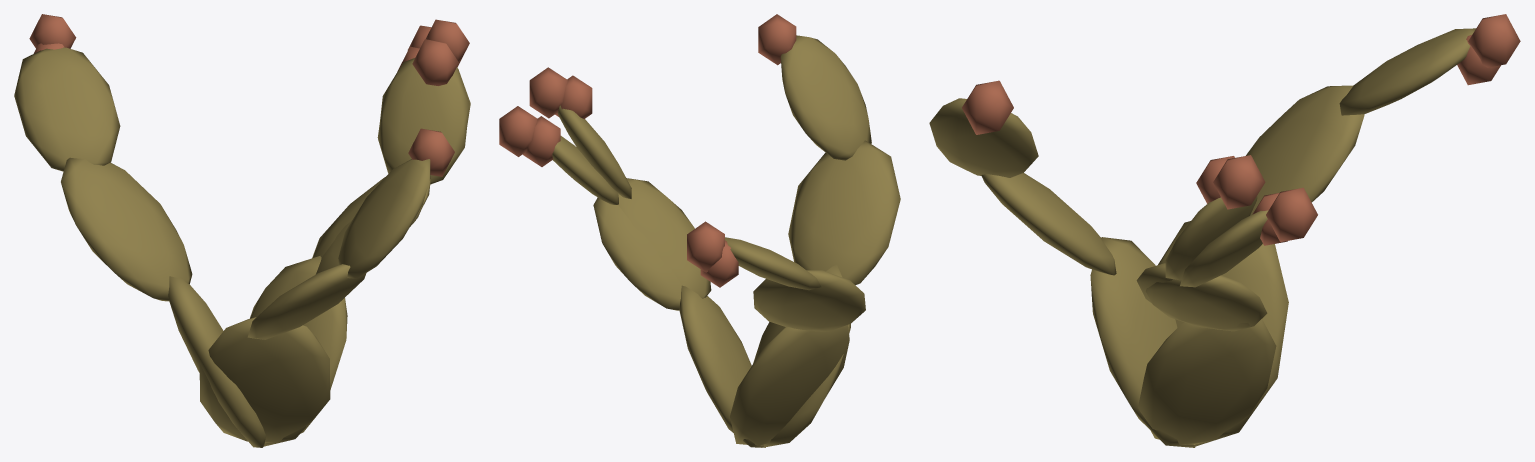
The model's file is prickly_pear_1_burnt1.glb.
The picture shows the model from 3 angles, left to right: view 1: azimuth 30°, elevation 25°; view 2: azimuth 150°, elevation 25°; view 3: azimuth 270°, elevation 25°; orthographic projection. The views are drawn at different scales.
Parts seen in each view (by area): view 1: prickly_pear_1_burnt1; view 2: prickly_pear_1_burnt1; view 3: prickly_pear_1_burnt1.
Boxes of the visible parts, x1,y1,x2,y2 form: prickly_pear_1_burnt1: (14, 14, 470, 447); prickly_pear_1_burnt1: (499, 14, 900, 447); prickly_pear_1_burnt1: (929, 14, 1520, 447).
Bounding box in the file's own units: 0.9268 × 0.8543 × 1.13.
